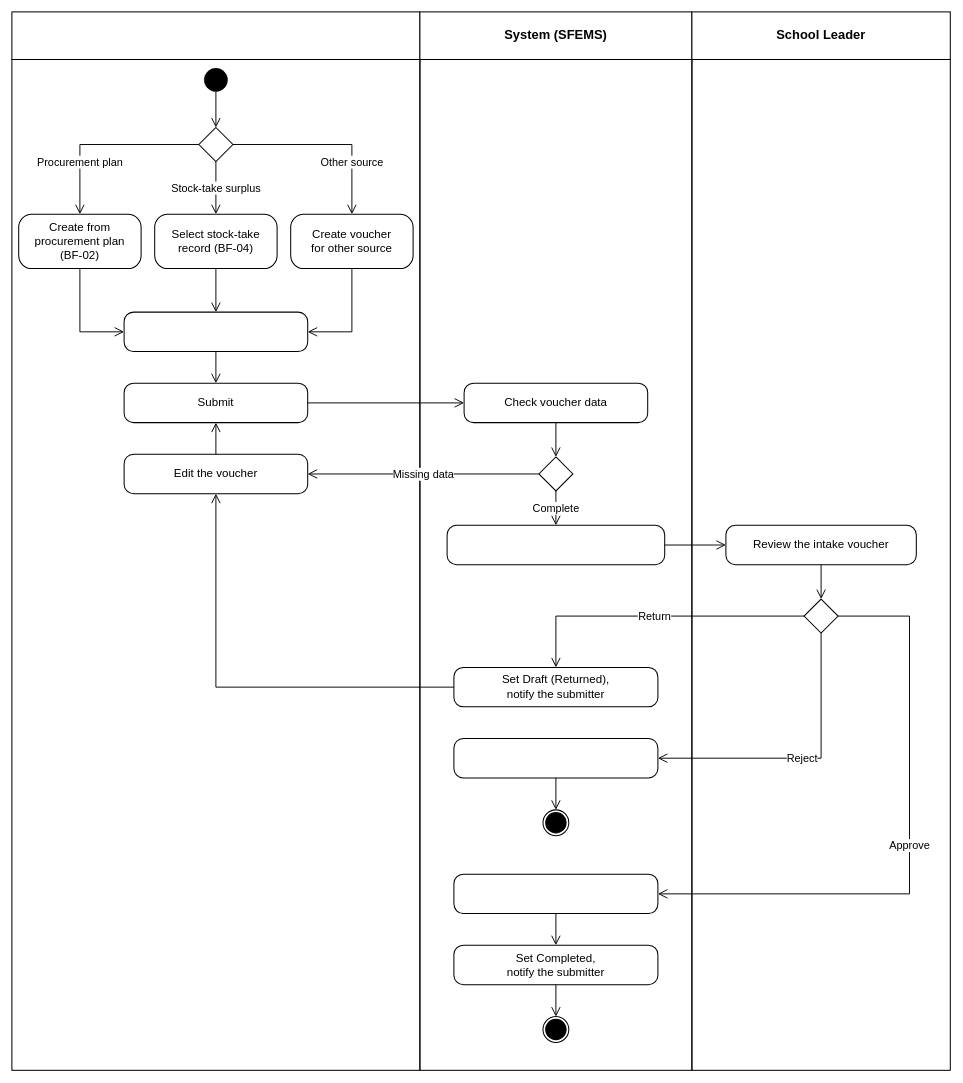
This 963x1083 diagram has some shape labels left out. Here are the shapes that lost their labels. From the top down, the box of each, then its label:
(11, 11, 420, 60): School Equipment Officer
(123, 311, 308, 352): Fill in voucher details
(446, 524, 665, 565): Give a number, set Pending, notify the School Leader
(453, 738, 658, 778): Set Rejected, notify the submitter
(453, 873, 658, 914): Check again, record intake, give equipment codes
